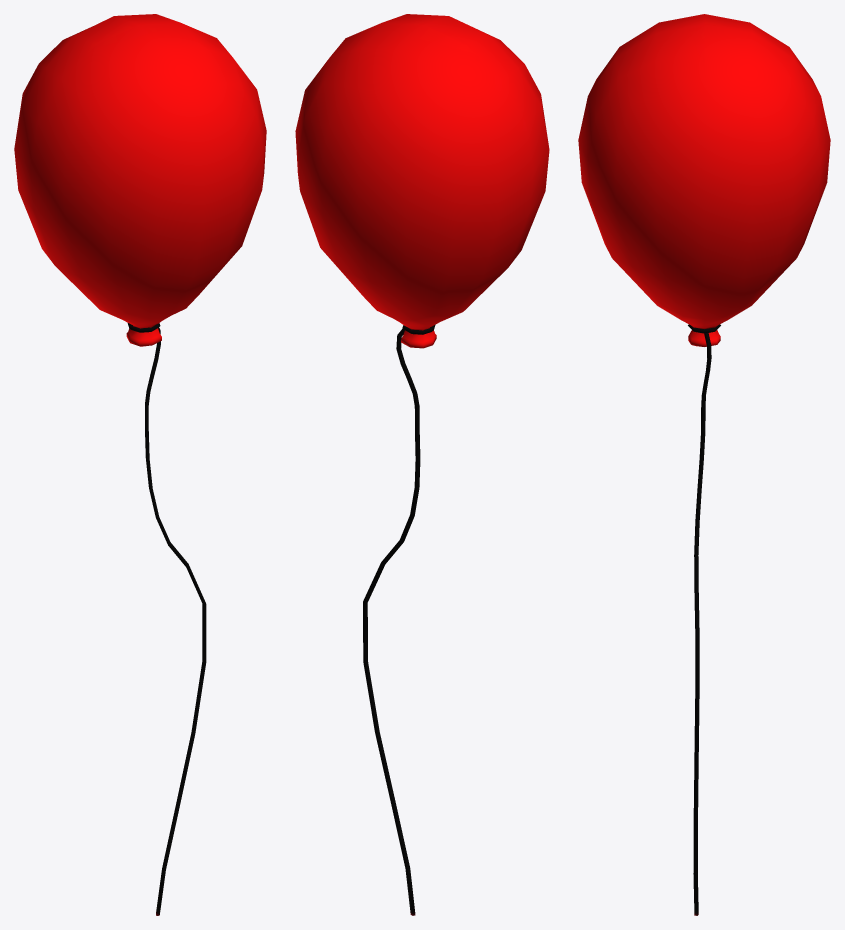
Rendered from balloon.glb.
3 renders of one model, left to right at view 1: azimuth 30°, elevation 25°; view 2: azimuth 150°, elevation 25°; view 3: azimuth 270°, elevation 25°, orthographic.
Visible parts, largest first — view 1: Baloon red_Baloon red_0; view 2: Baloon red_Baloon red_0; view 3: Baloon red_Baloon red_0.
Part boxes in pixels (bbox=[...]): Baloon red_Baloon red_0: bbox=[14, 14, 266, 915]; Baloon red_Baloon red_0: bbox=[295, 14, 549, 915]; Baloon red_Baloon red_0: bbox=[578, 14, 830, 915].
Size of the model in its own units: 0.2806 by 1.08 by 0.2807.
1 material, 1 textured.
